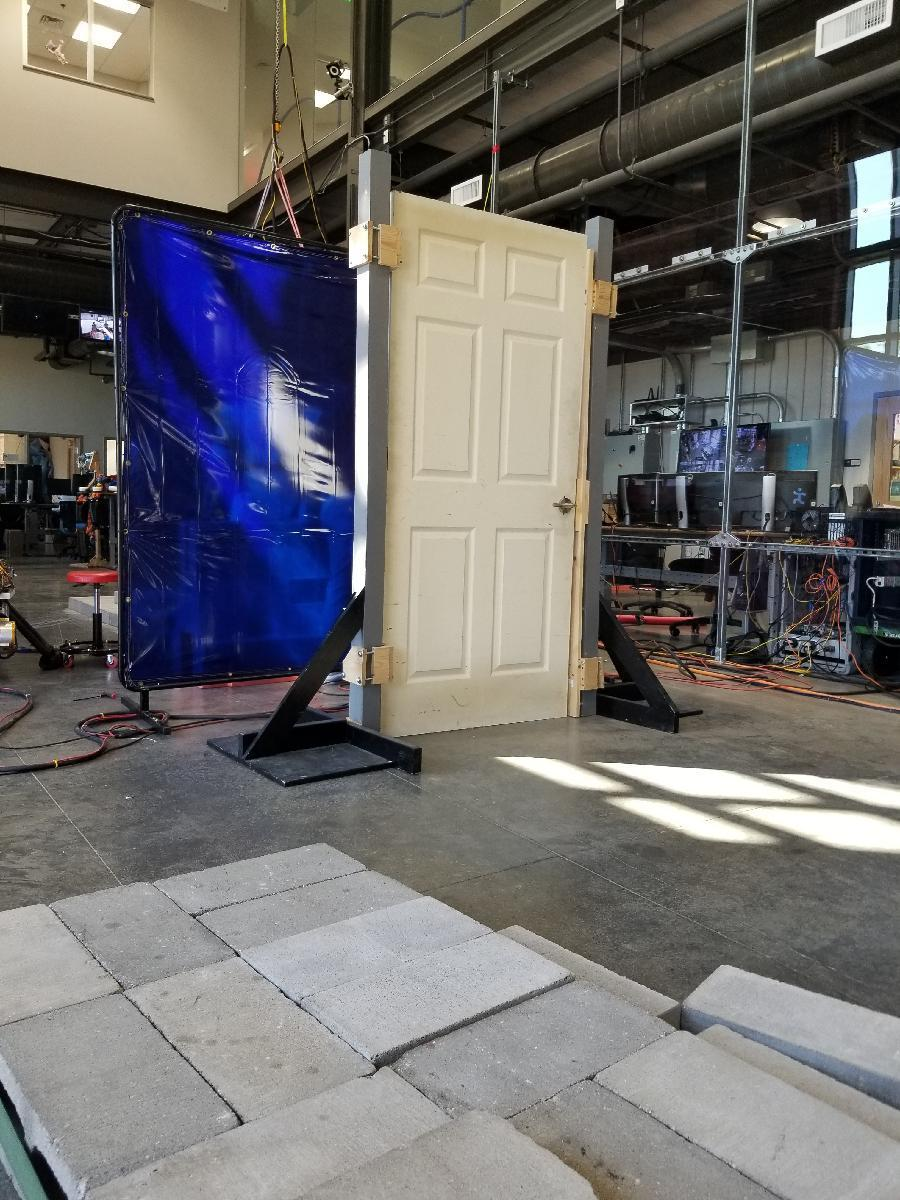door: (394, 188, 576, 737)
handle: (550, 495, 575, 513)
